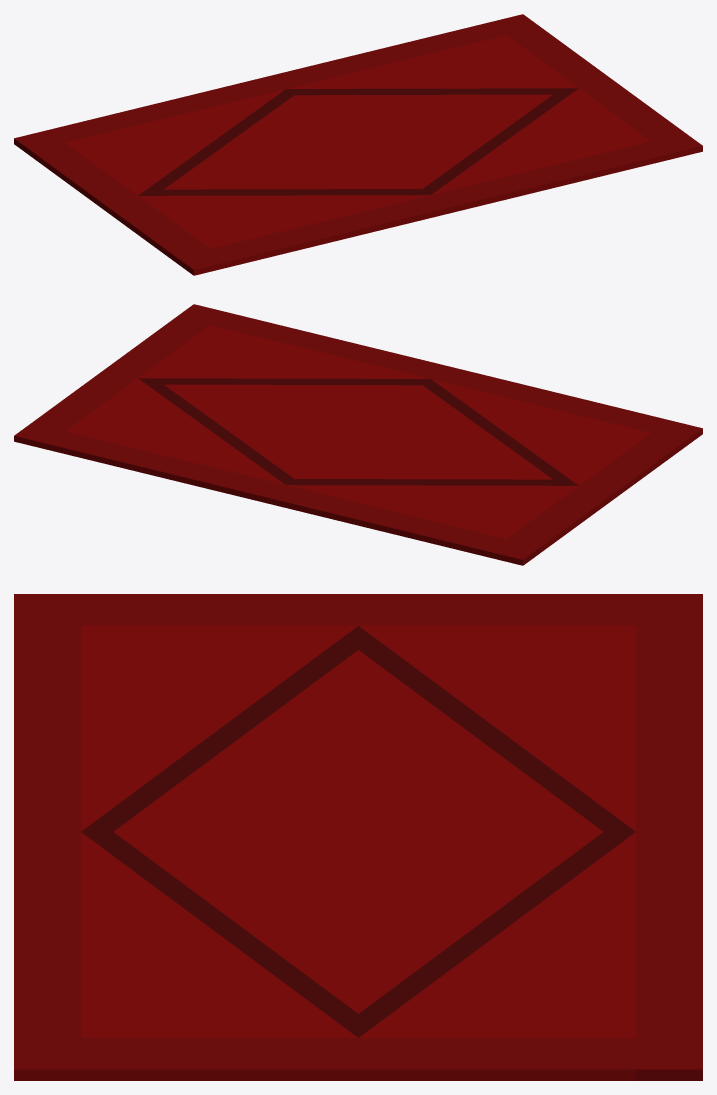
Rendered from Prop_Carpet_03.fbx.
3 views of the same model, one above another, from view 1: azimuth 30°, elevation 25°; view 2: azimuth 150°, elevation 25°; view 3: azimuth 270°, elevation 25° (orthographic). The views are drawn at different scales.
Visible parts, largest first — view 1: Prop_Carpet_03; view 2: Prop_Carpet_03; view 3: Prop_Carpet_03.
Part boxes in pixels (x1,y1,x2,y2): Prop_Carpet_03: (14,14,702,275); Prop_Carpet_03: (14,304,702,565); Prop_Carpet_03: (14,594,702,1080).
Bounding box in the file's own units: 175 × 1.92 × 107.
